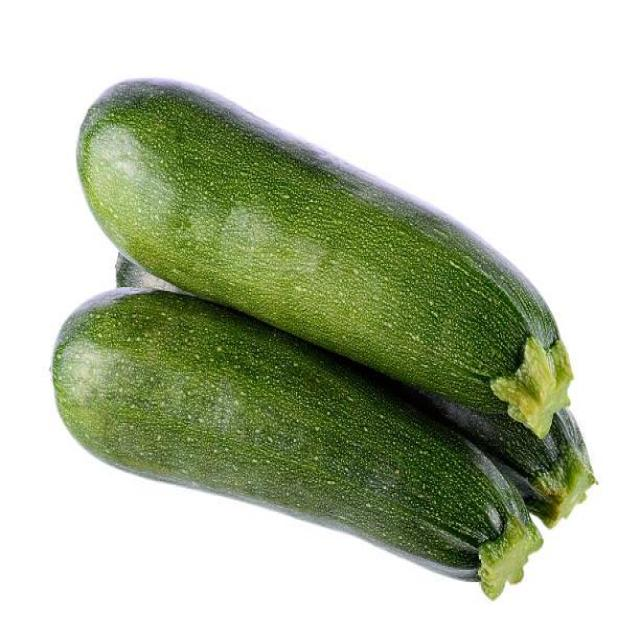Courgette: (77, 79, 571, 438), (52, 290, 541, 596)
